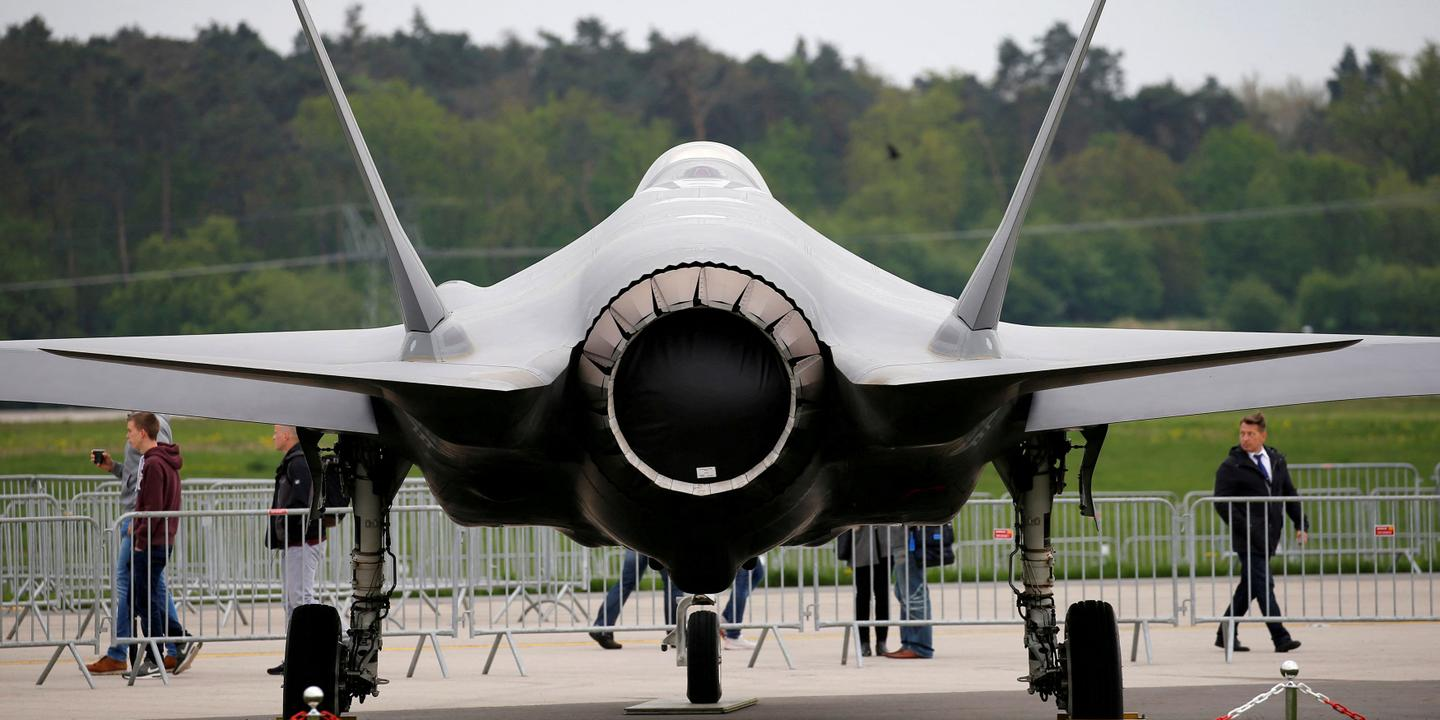F35: (1, 0, 1439, 717)
